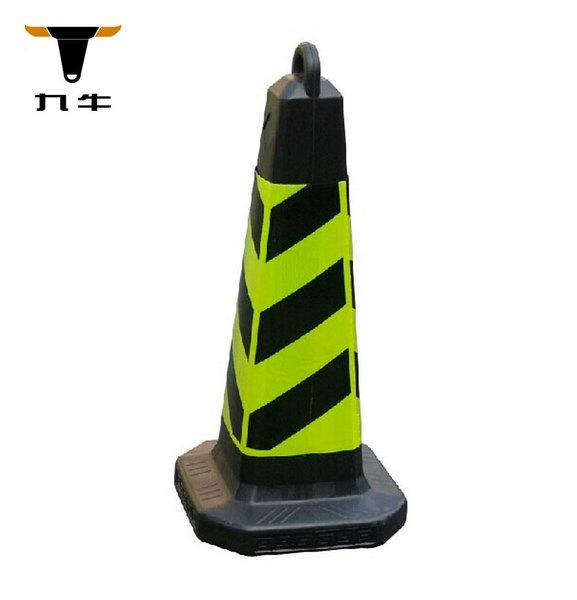sign: (173, 33, 421, 557)
